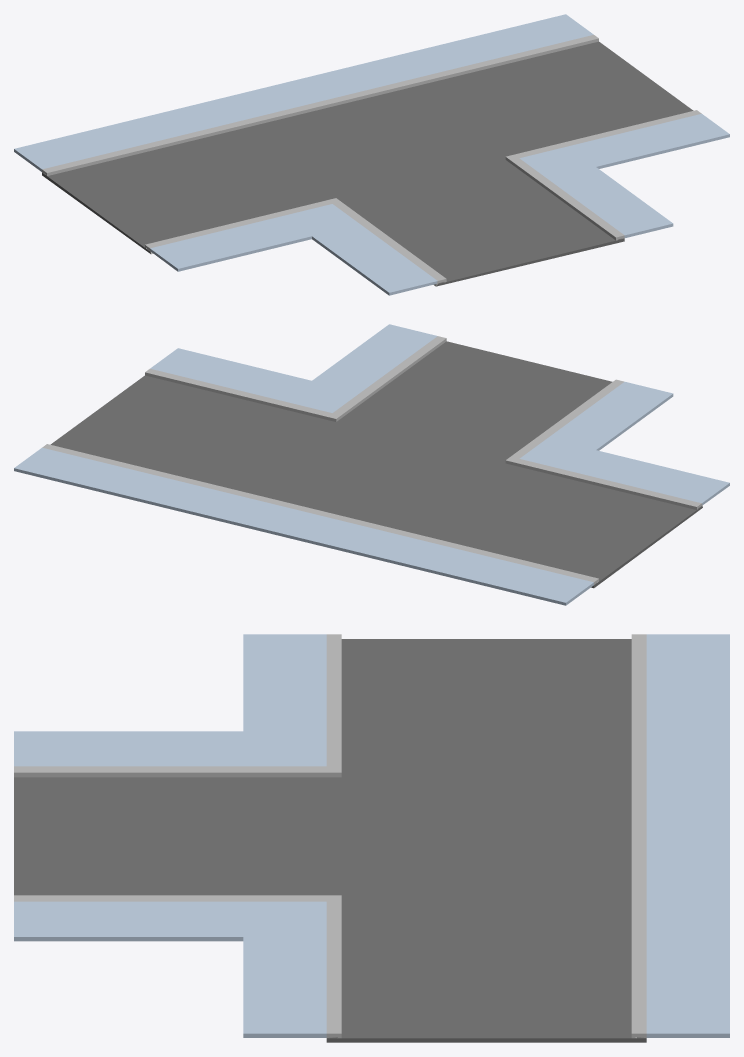
The model's file is road_three.glb.
3 views of the same model, one above another, from view 1: azimuth 30°, elevation 25°; view 2: azimuth 150°, elevation 25°; view 3: azimuth 270°, elevation 25° (orthographic). The views are drawn at different scales.
Visible parts, largest first — view 1: 3-way T road; view 2: 3-way T road; view 3: 3-way T road.
Part boxes in pixels (x1,y1,x2,y2): 3-way T road: (14,14,729,295); 3-way T road: (14,324,729,605); 3-way T road: (14,634,729,1042).
Bounding box in the file's own units: 197 × 2.06 × 149.
